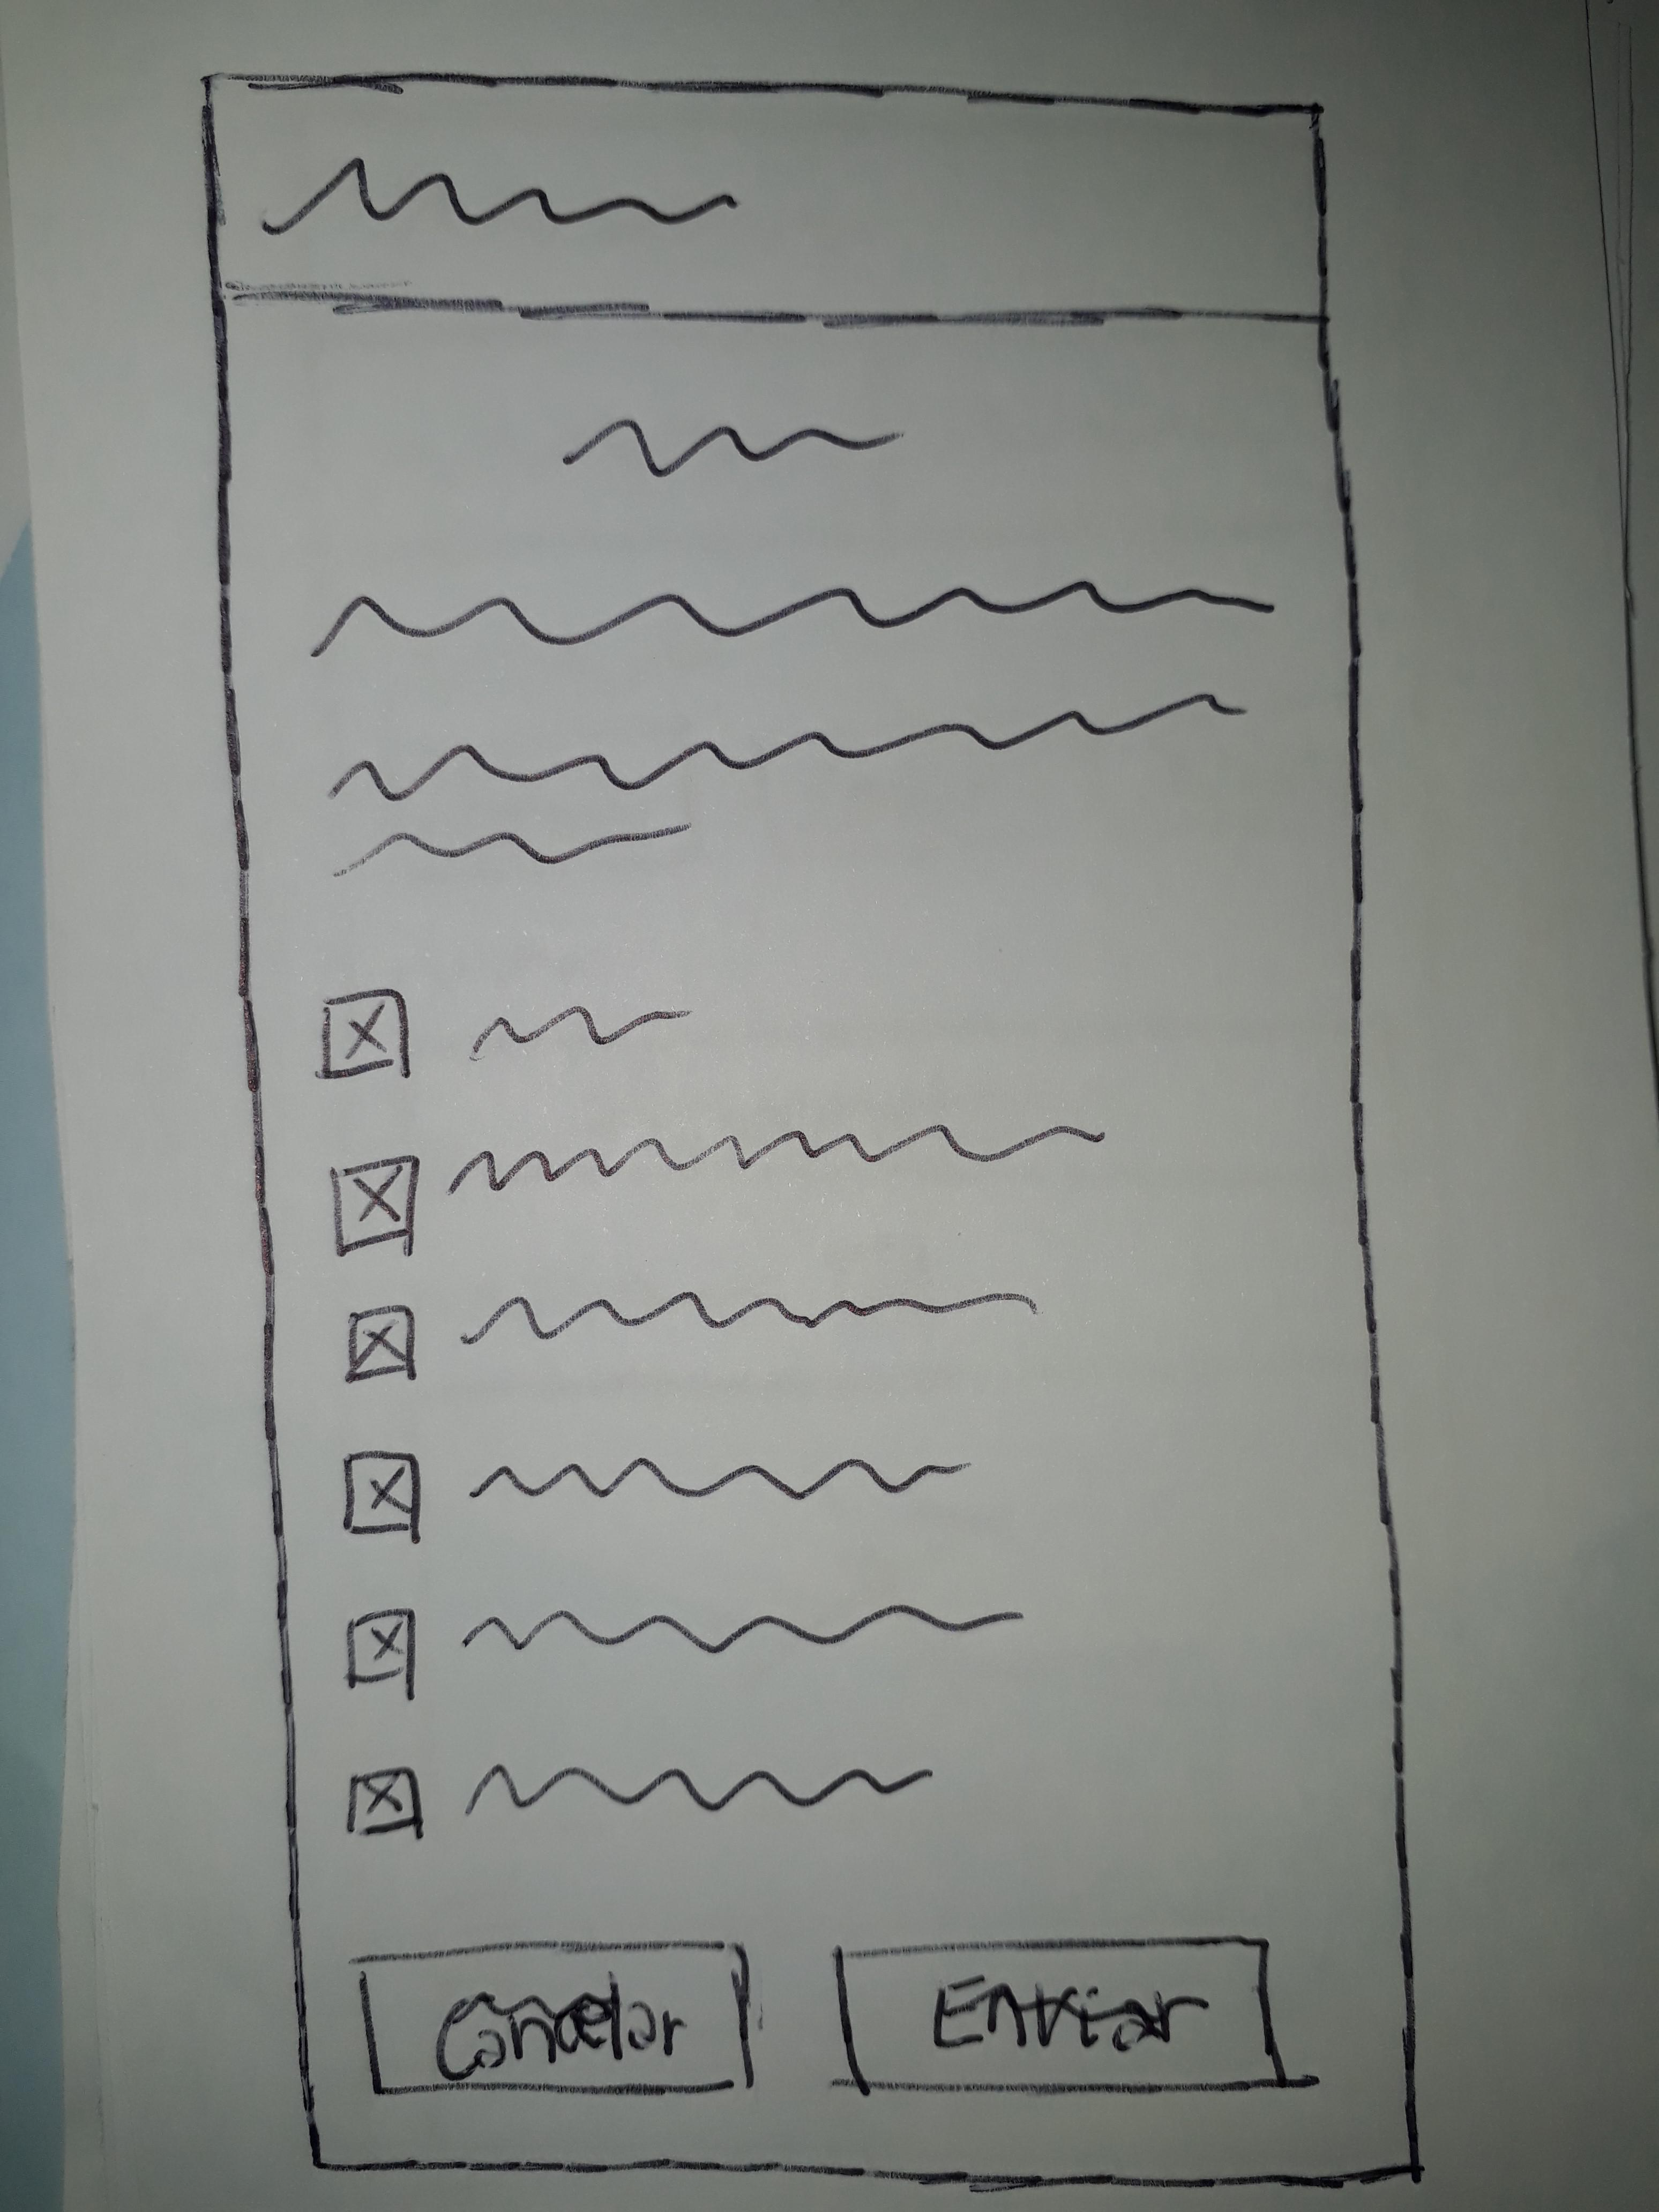Button: (829, 1935, 1291, 2094), (355, 1933, 755, 2097)
CheckBox: (329, 1125, 1114, 1261), (342, 1282, 1046, 1383), (342, 1595, 1030, 1691), (340, 1444, 974, 1540), (347, 1766, 934, 1836), (315, 984, 699, 1083)
Label: (307, 578, 1276, 880), (251, 143, 746, 247), (558, 408, 906, 484)
Screen: (202, 66, 1422, 2186)
